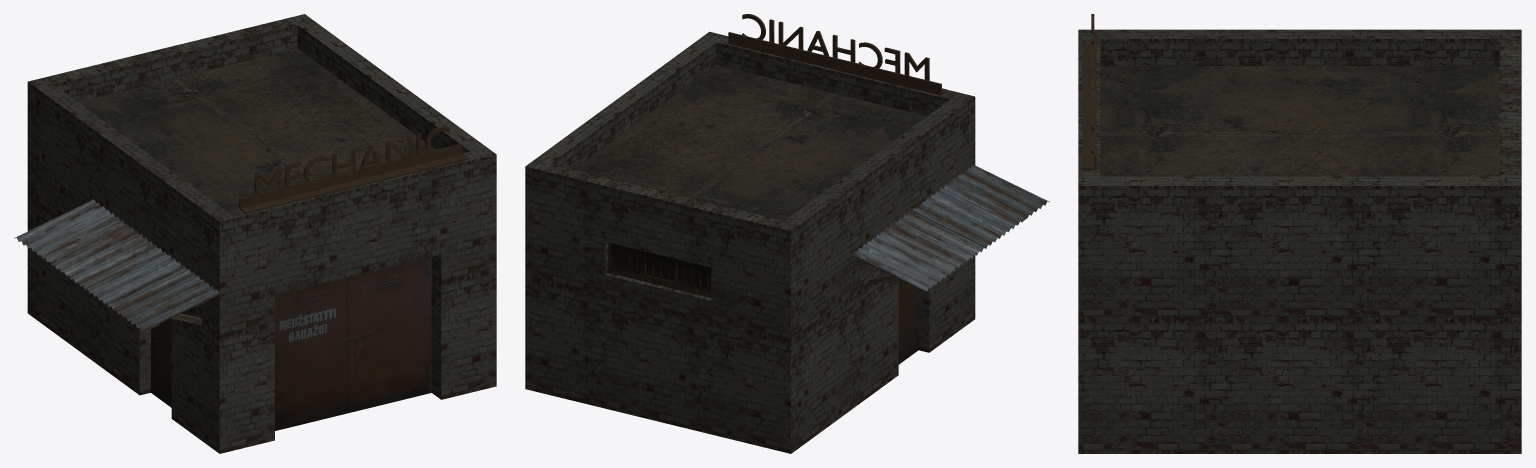
Rendered from garage_hl_1.obj.
3 views of the same model, side by side, from view 1: azimuth 30°, elevation 25°; view 2: azimuth 150°, elevation 25°; view 3: azimuth 270°, elevation 25° (orthographic). The views are drawn at different scales.
Parts seen in each view (by area): view 1: garage_hl_1; view 2: garage_hl_1; view 3: garage_hl_1.
Part boxes in pixels (x1,y1,x2,y2): garage_hl_1: (14, 14, 496, 453); garage_hl_1: (525, 14, 1049, 453); garage_hl_1: (1078, 14, 1521, 453).
Bounding box in the file's own units: 6.4 × 4.59 × 6.
